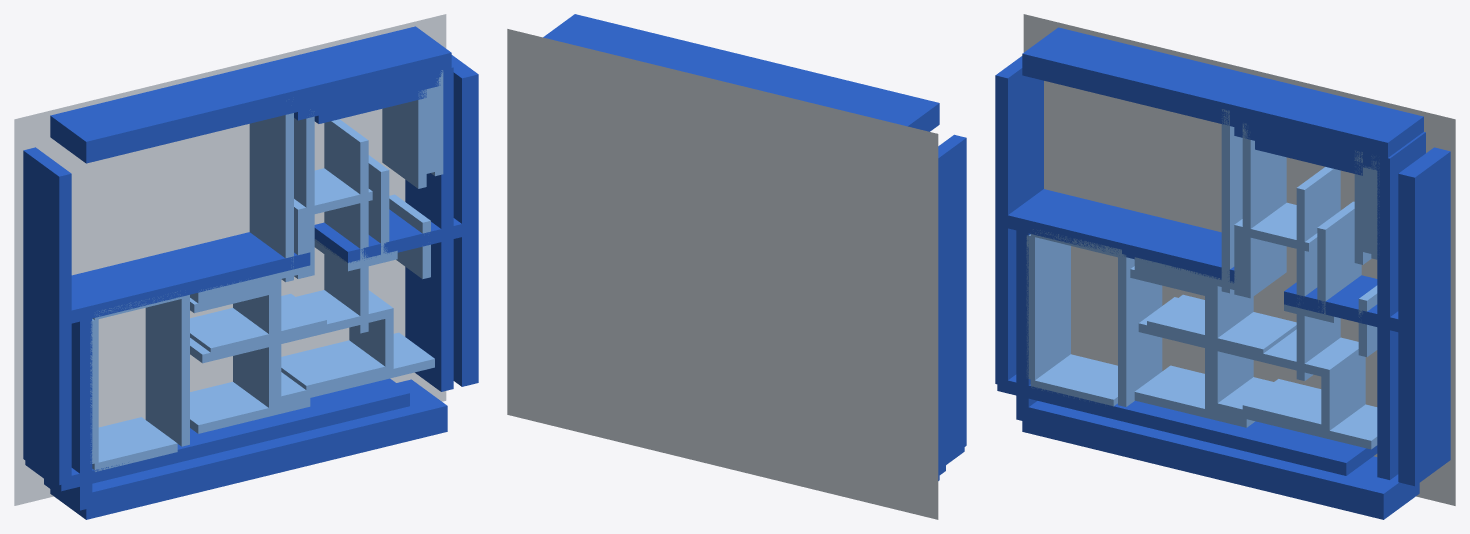
File: ad7994ec-cc70-4967-bbe6-9ae73cdf264a.obj
The picture shows the model from 3 angles, left to right: view 1: azimuth 30°, elevation 25°; view 2: azimuth 150°, elevation 25°; view 3: azimuth 330°, elevation 25°; orthographic projection.
Size of the model in its own units: 20.8 by 17.8 by 3.05.
